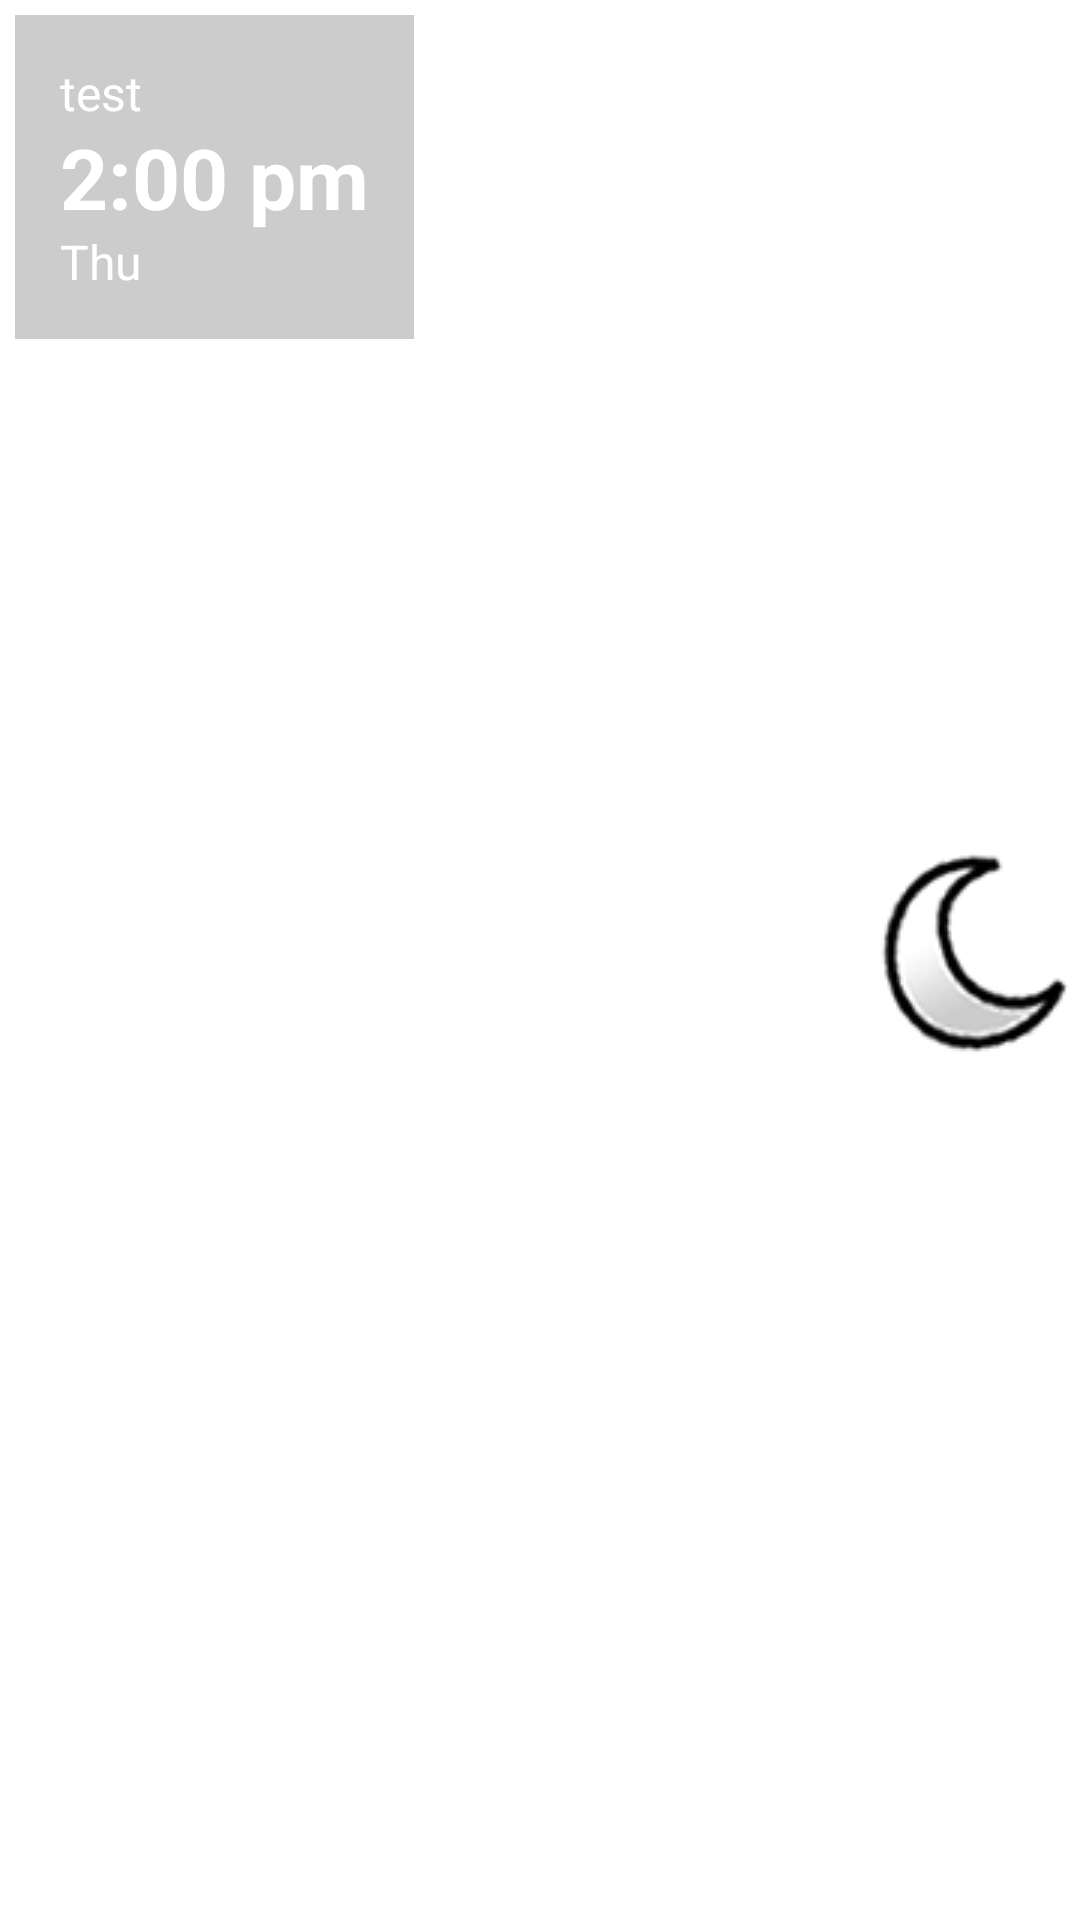

Where icons sit on this 1080 x 1920 app screen, as (x1, y1, x2, y2):
moon: (882, 855, 1066, 1052)
